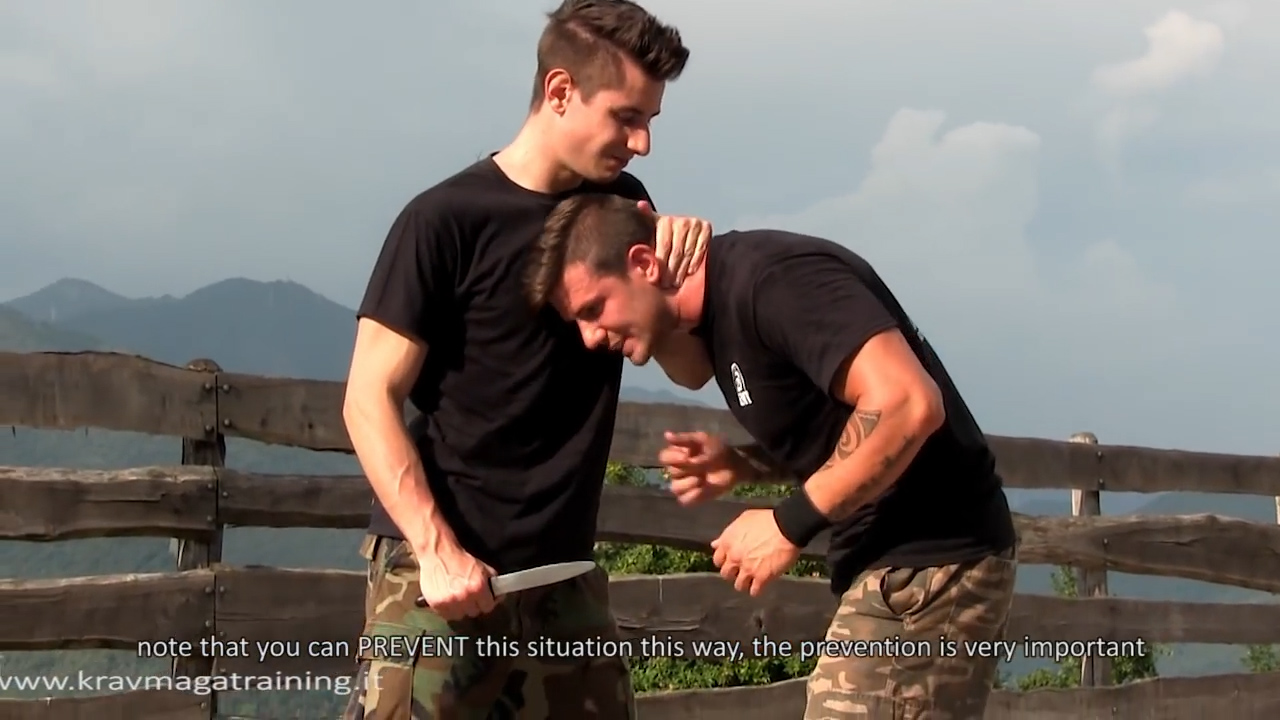knife: (406, 552, 612, 625)
